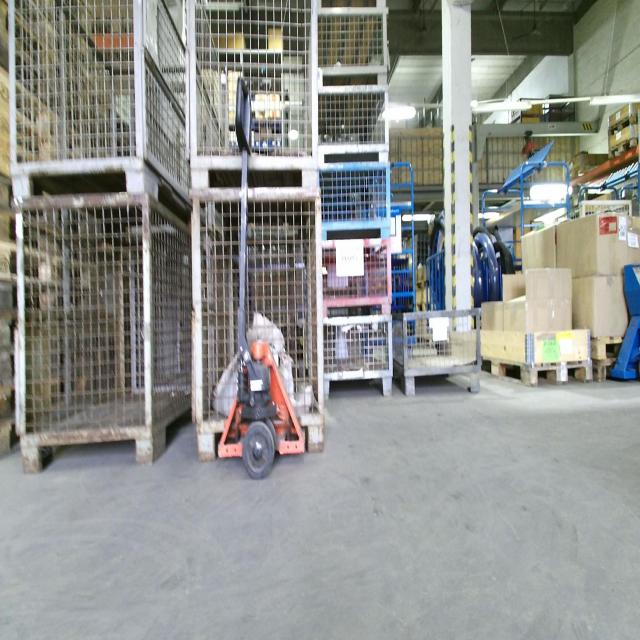pallet: (478, 352, 596, 389), (592, 326, 635, 362), (583, 358, 638, 386), (609, 114, 639, 137), (608, 138, 639, 155)
pallet_truck: (212, 73, 308, 485), (602, 261, 640, 387)
stillage: (12, 189, 199, 481), (184, 181, 326, 466), (8, 3, 194, 206), (183, 2, 314, 189), (392, 306, 486, 399), (309, 308, 397, 406), (310, 238, 396, 318), (314, 83, 391, 166), (310, 7, 389, 85), (314, 165, 392, 236), (310, 2, 386, 7)
